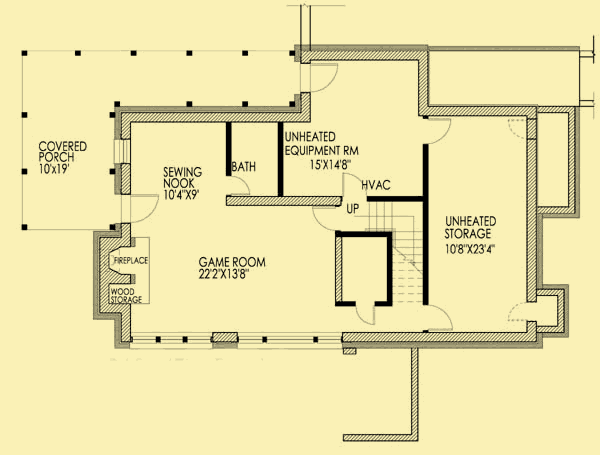door: (126, 191, 162, 223), (310, 60, 340, 93), (419, 116, 452, 146), (340, 169, 370, 201), (420, 303, 454, 331), (311, 207, 343, 234), (351, 301, 377, 326)
stairs: (365, 198, 430, 279)
window: (236, 332, 343, 352), (128, 333, 212, 347), (112, 135, 129, 165)
